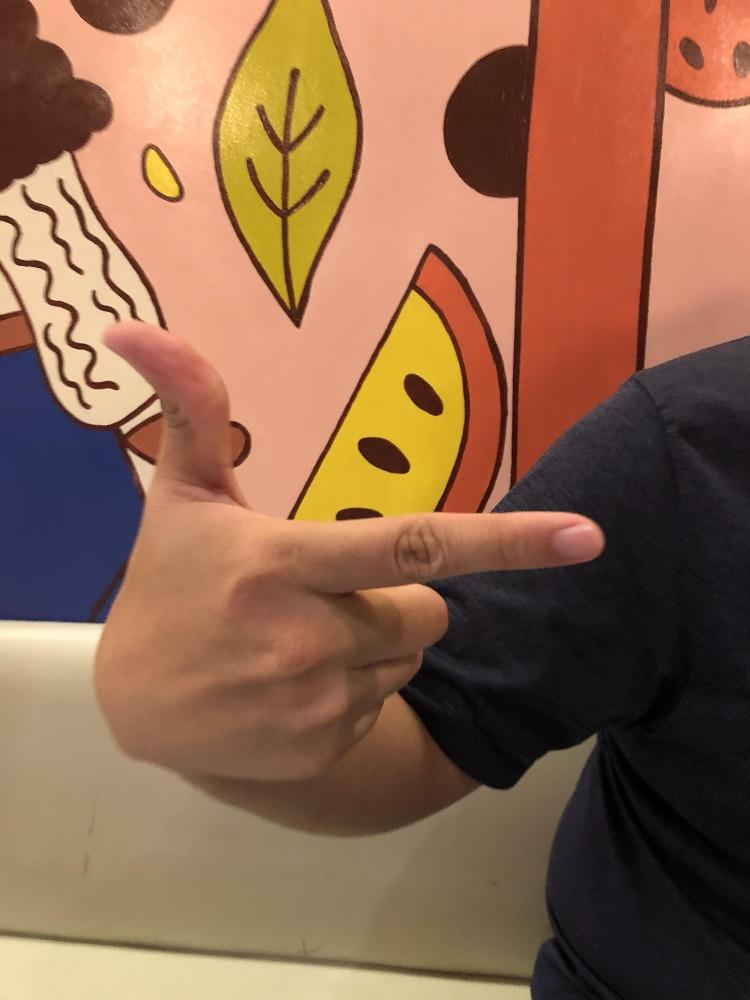g: (89, 310, 605, 781)
